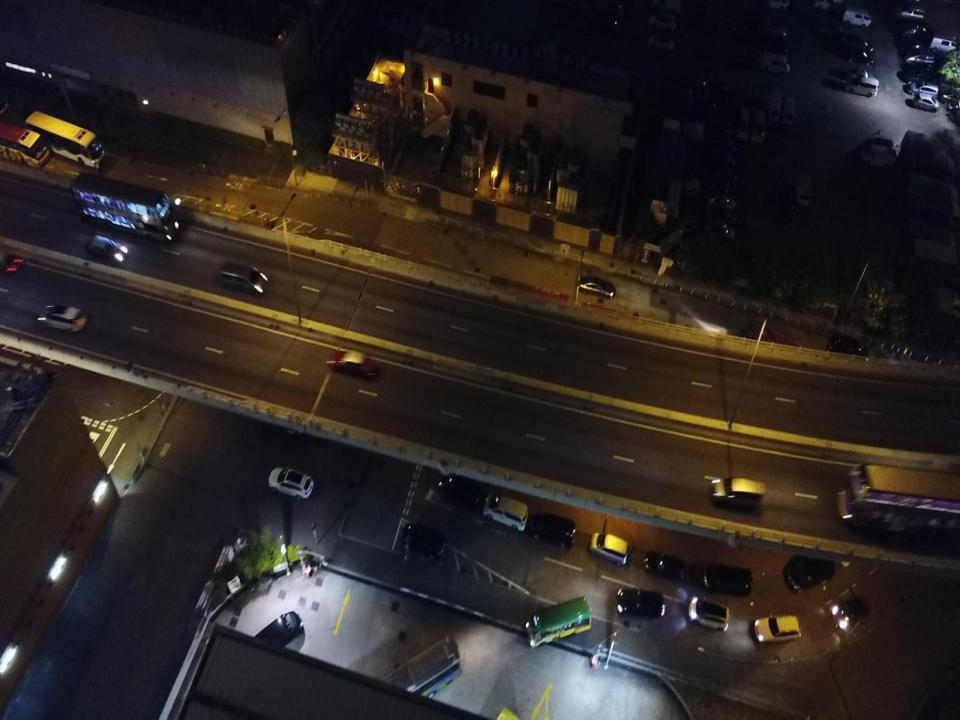bus: (838, 462, 960, 540), (742, 318, 851, 395), (68, 172, 179, 242), (351, 638, 462, 705), (23, 109, 106, 170), (525, 596, 591, 650), (0, 124, 51, 166)
car: (785, 553, 835, 592), (35, 301, 88, 337), (326, 347, 378, 380), (617, 586, 665, 620), (267, 465, 314, 499), (705, 136, 736, 187), (687, 596, 730, 631), (704, 564, 752, 595), (81, 234, 130, 264), (589, 532, 628, 566), (755, 614, 800, 642), (832, 596, 871, 628), (644, 551, 686, 580), (826, 333, 868, 361), (578, 275, 615, 301), (705, 219, 734, 240), (907, 80, 939, 99), (841, 47, 873, 66), (705, 204, 734, 224), (705, 193, 734, 213), (706, 178, 734, 198), (841, 34, 872, 52), (778, 195, 794, 229), (912, 93, 938, 113), (846, 67, 876, 84), (902, 20, 931, 37), (758, 37, 788, 53), (900, 35, 930, 51), (758, 22, 787, 38), (649, 14, 675, 30), (648, 35, 674, 50), (765, 0, 790, 9)
truck: (900, 130, 956, 182), (905, 236, 960, 280), (903, 186, 960, 228), (903, 281, 960, 320), (903, 172, 959, 206), (906, 221, 958, 250), (652, 0, 682, 13)
van: (252, 612, 304, 654), (483, 492, 528, 532), (710, 478, 764, 510), (218, 261, 270, 294), (438, 471, 482, 508), (530, 513, 575, 548), (403, 523, 445, 559), (861, 144, 897, 168), (902, 65, 937, 86), (760, 52, 790, 76), (845, 77, 879, 98), (927, 31, 956, 54), (903, 48, 935, 66), (674, 214, 697, 238), (844, 8, 871, 28), (735, 106, 750, 141), (750, 109, 765, 143), (767, 90, 782, 124), (796, 172, 811, 206), (896, 5, 926, 21), (783, 93, 796, 126), (682, 177, 702, 196), (814, 0, 844, 10)
